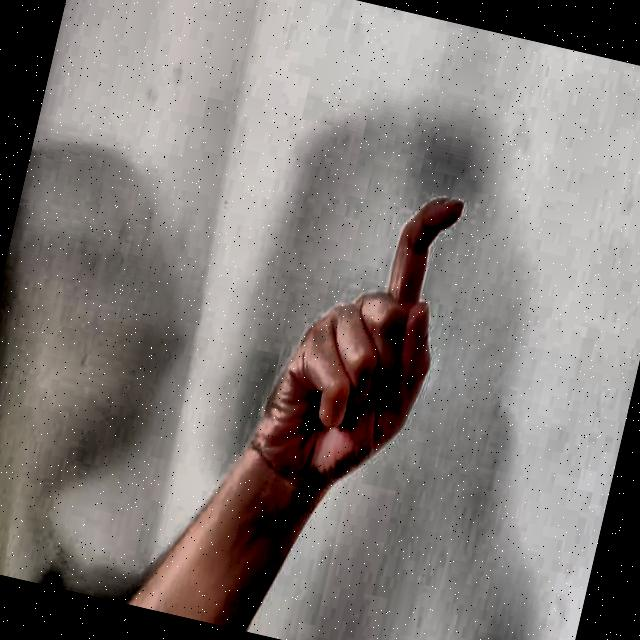E: (219, 140, 492, 526)
